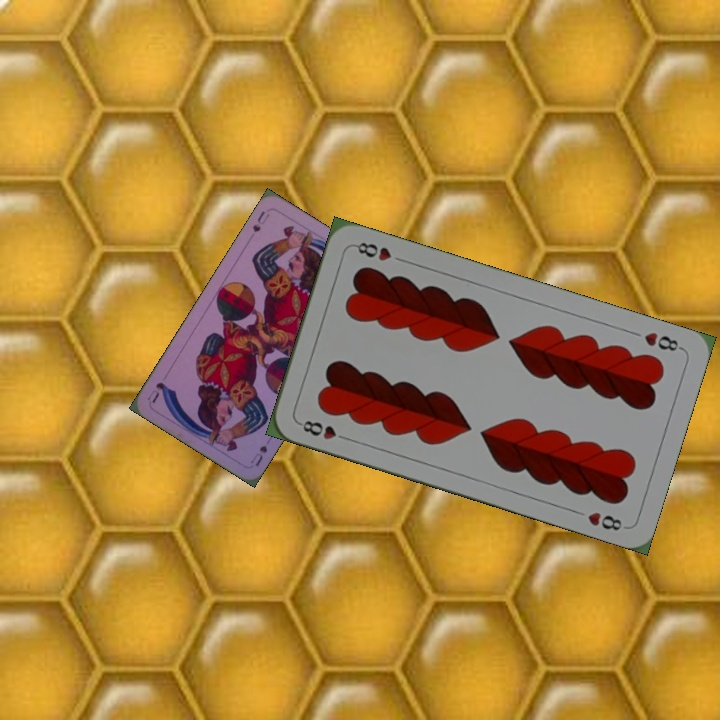H8: (295, 416, 352, 443), (640, 328, 685, 354)
SU: (248, 207, 272, 235), (247, 441, 270, 469)
